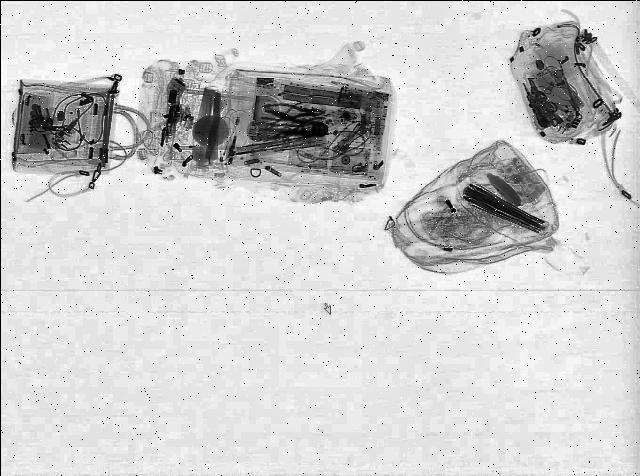Pliers: (260, 114, 334, 148), (260, 108, 330, 140), (260, 104, 324, 120)
